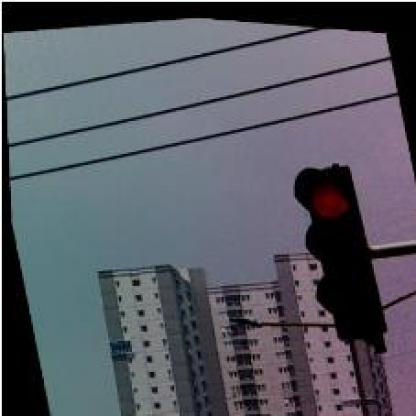red: (291, 154, 383, 337)
